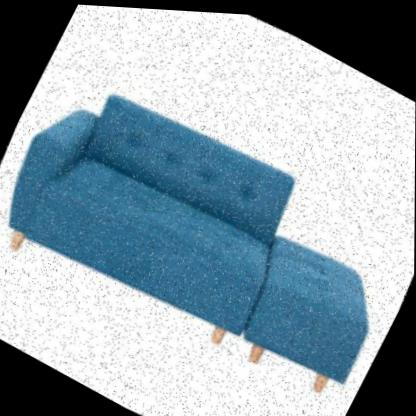Sofa: (0, 26, 416, 416)
